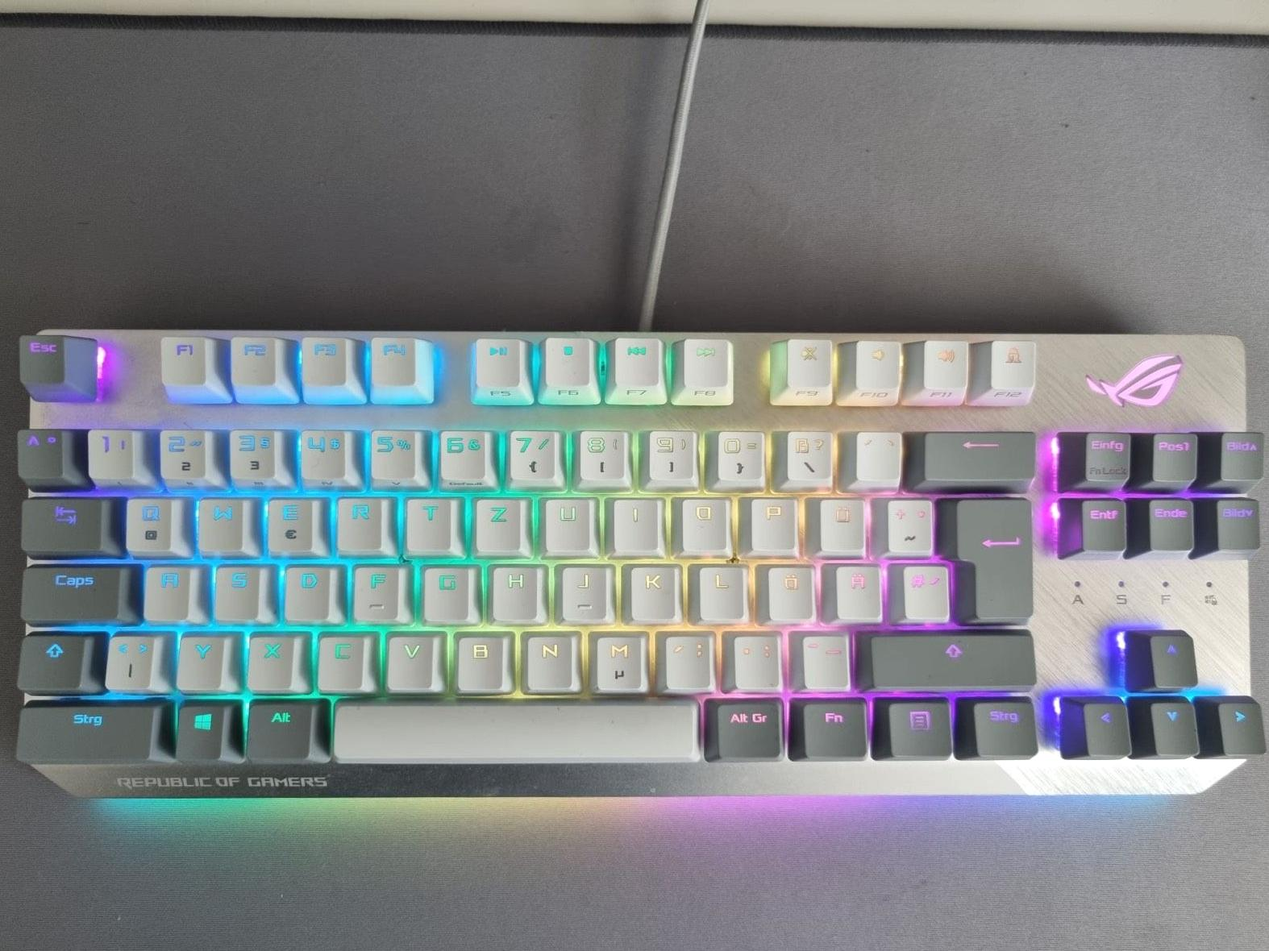0: (710, 428, 767, 487)
1: (85, 426, 141, 485)
2: (157, 427, 214, 486)
3: (227, 426, 283, 484)
4: (298, 428, 355, 487)
5: (367, 429, 423, 488)
6: (435, 427, 492, 486)
7: (506, 426, 562, 485)
8: (575, 428, 631, 487)
9: (644, 427, 701, 486)
a: (141, 565, 196, 623)
accent: (851, 429, 907, 488)
ae: (833, 560, 882, 620)
alt-left: (245, 699, 315, 759)
altgr-right: (711, 696, 784, 758)
b: (452, 629, 512, 691)
c: (316, 630, 372, 691)
caret: (14, 426, 64, 481)
comma: (664, 629, 714, 690)
d: (282, 563, 337, 621)
del: (922, 427, 1035, 483)
e: (264, 496, 322, 553)
enter: (951, 493, 1033, 623)
f: (352, 562, 405, 621)
g: (421, 563, 476, 621)
h: (489, 562, 545, 621)
hash: (900, 561, 949, 620)
i: (609, 494, 661, 552)
j: (559, 560, 611, 621)
k: (626, 560, 680, 621)
keyboard: (1, 315, 1269, 813)
l: (697, 563, 746, 621)
less: (103, 632, 160, 691)
m: (591, 629, 647, 691)
minus: (799, 631, 850, 688)
n: (522, 629, 579, 690)
o: (678, 494, 730, 552)
oe: (765, 562, 814, 621)
p: (747, 496, 801, 554)
plus: (885, 495, 934, 554)
point: (730, 629, 781, 689)
q: (123, 498, 181, 555)
r: (334, 497, 392, 554)
s: (214, 563, 272, 621)
shift-left: (13, 631, 87, 690)
shift-lock: (18, 563, 125, 622)
shift-right: (867, 630, 1036, 688)
space: (330, 697, 701, 763)
ss: (780, 428, 836, 487)
strg-left: (11, 702, 165, 762)
strg-right: (969, 700, 1037, 757)
t: (404, 496, 456, 552)
tab: (19, 494, 104, 553)
u: (542, 494, 594, 553)
ue: (818, 494, 872, 553)
v: (385, 629, 439, 689)
w: (195, 497, 253, 554)
x: (246, 631, 303, 690)
y: (176, 633, 230, 689)
z: (472, 495, 526, 553)
